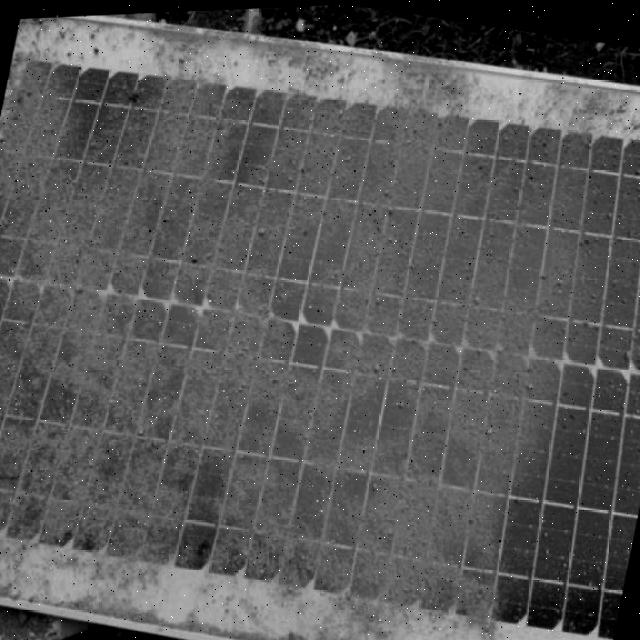Anomaly Solar Panel: (0, 0, 640, 640)
Surface Contaminant: (0, 22, 640, 640)
